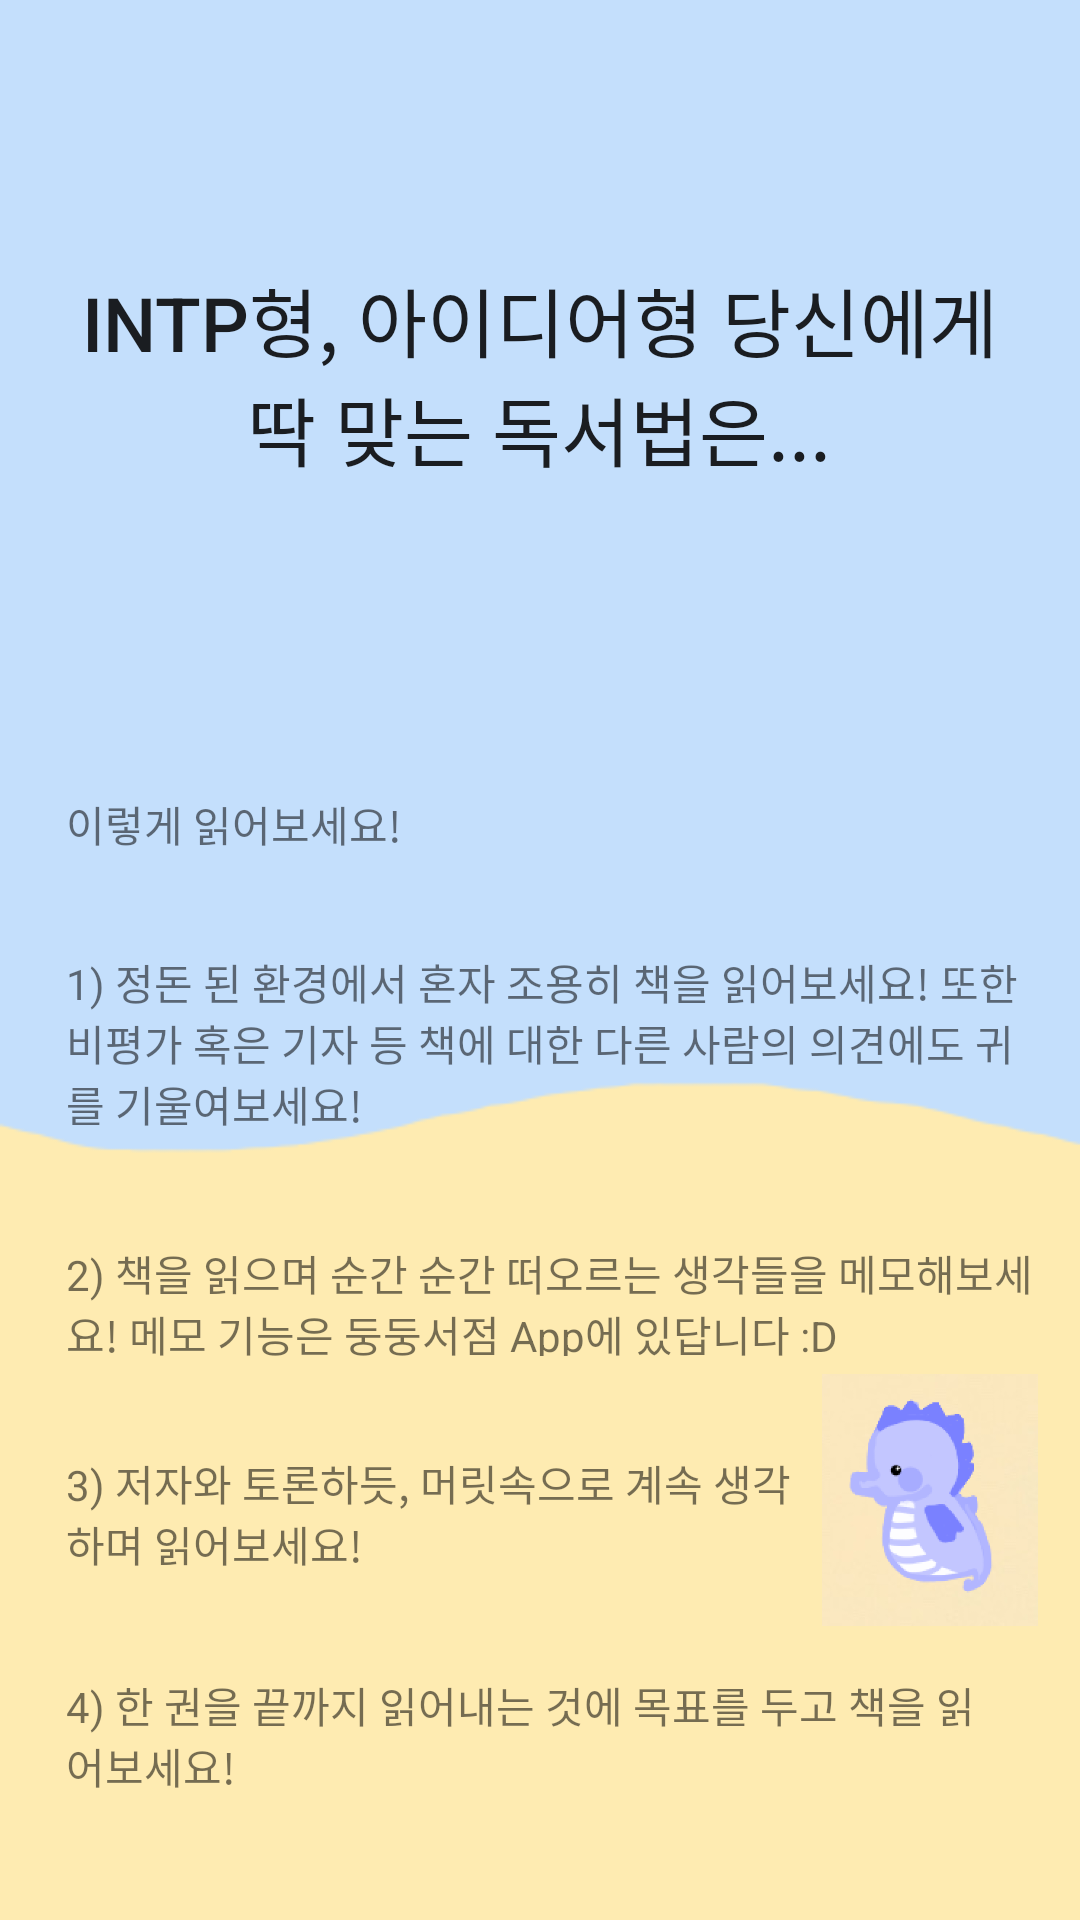

Screen size 1080×1920. Icon name, then its box in pixels as (x1, y1, x2, y2):
seahorse: (849, 1399, 992, 1593)
